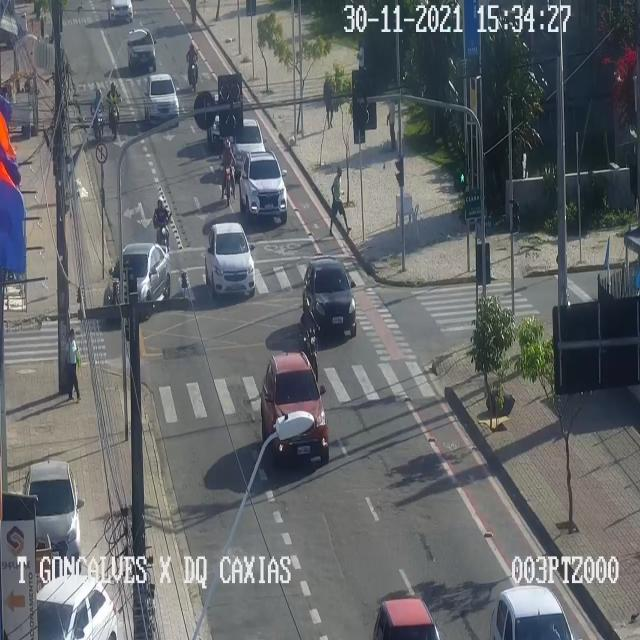Car: (473, 560, 580, 640), (262, 350, 328, 468), (23, 461, 85, 553), (367, 575, 451, 640), (102, 242, 172, 316), (38, 572, 115, 639), (305, 258, 359, 345), (205, 223, 257, 297), (239, 150, 291, 223), (230, 114, 271, 170), (144, 75, 176, 127), (127, 30, 155, 70), (205, 94, 224, 146), (106, 0, 132, 24)
Motorcycle: (300, 295, 320, 384), (218, 136, 236, 208), (152, 198, 170, 254), (109, 77, 121, 142), (92, 89, 104, 154), (187, 42, 200, 92)
